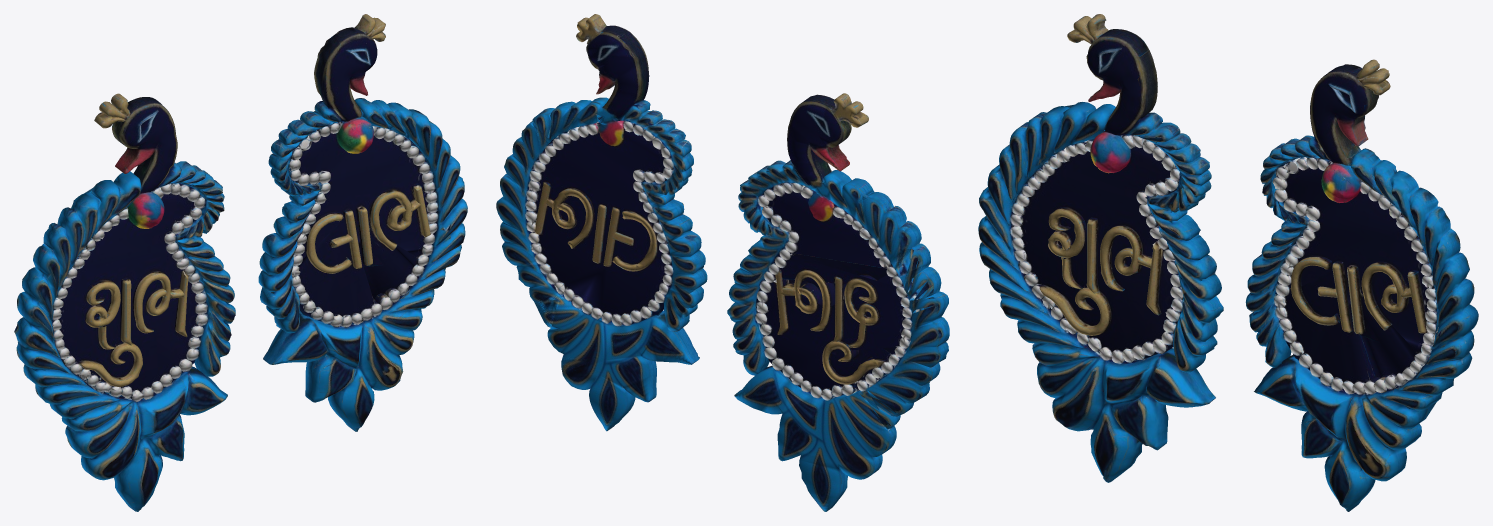
Rendered from peacock-shubh-labh.glb.
The picture shows the model from 3 angles, left to right: view 1: azimuth 30°, elevation 25°; view 2: azimuth 150°, elevation 25°; view 3: azimuth 330°, elevation 25°; orthographic projection. The views are drawn at different scales.
Visible parts, largest first — view 1: peacock-shubh-labh; view 2: peacock-shubh-labh; view 3: peacock-shubh-labh.
Boxes of the visible parts, x1,y1,x2,y2 form: peacock-shubh-labh: [14, 14, 467, 511]; peacock-shubh-labh: [496, 14, 949, 511]; peacock-shubh-labh: [978, 14, 1478, 511].
Bounding box in the file's own units: 0.2566 × 0.24 × 0.0209.
1 material, 1 textured.
